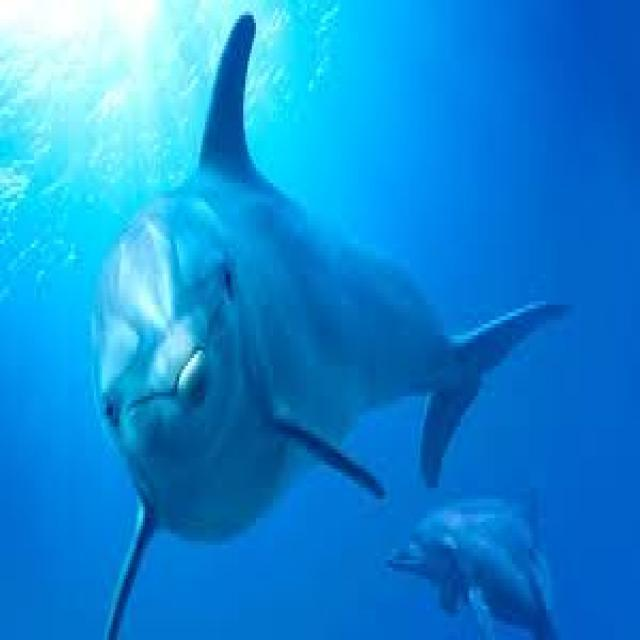dolphin: (32, 8, 591, 544)
